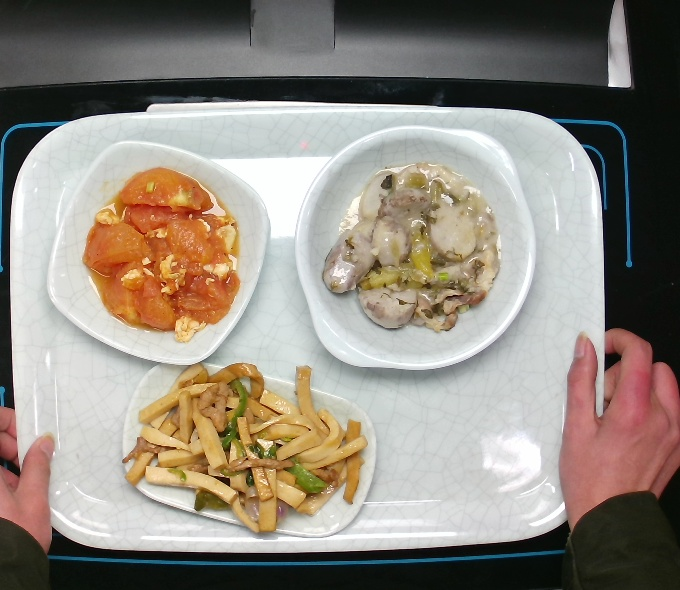wcq-FanQieChaoDan: (76, 162, 253, 348)
wcq-QianYeDouFu: (113, 348, 374, 541)
wcq-YangYu: (311, 163, 504, 341)
